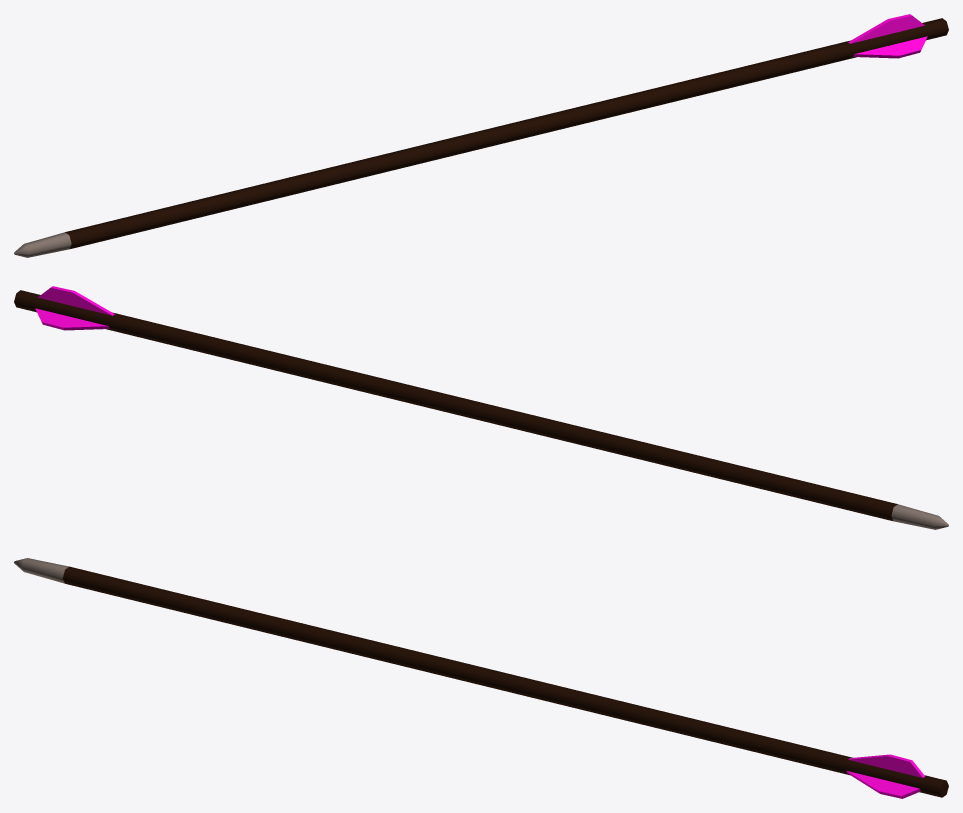
Rendered from M_Arrow.FBX.
3 renders of one model, top to bottom at view 1: azimuth 30°, elevation 25°; view 2: azimuth 150°, elevation 25°; view 3: azimuth 330°, elevation 25°, orthographic.
Visible parts, largest first — view 1: M_Arrow; view 2: M_Arrow; view 3: M_Arrow.
Boxes of the visible parts, left/top/right/bottom form: M_Arrow: left=14, top=14, right=948, bottom=257; M_Arrow: left=14, top=286, right=948, bottom=529; M_Arrow: left=14, top=558, right=948, bottom=798.
Size of the model in its own units: 30.44 by 1 by 1.15.
